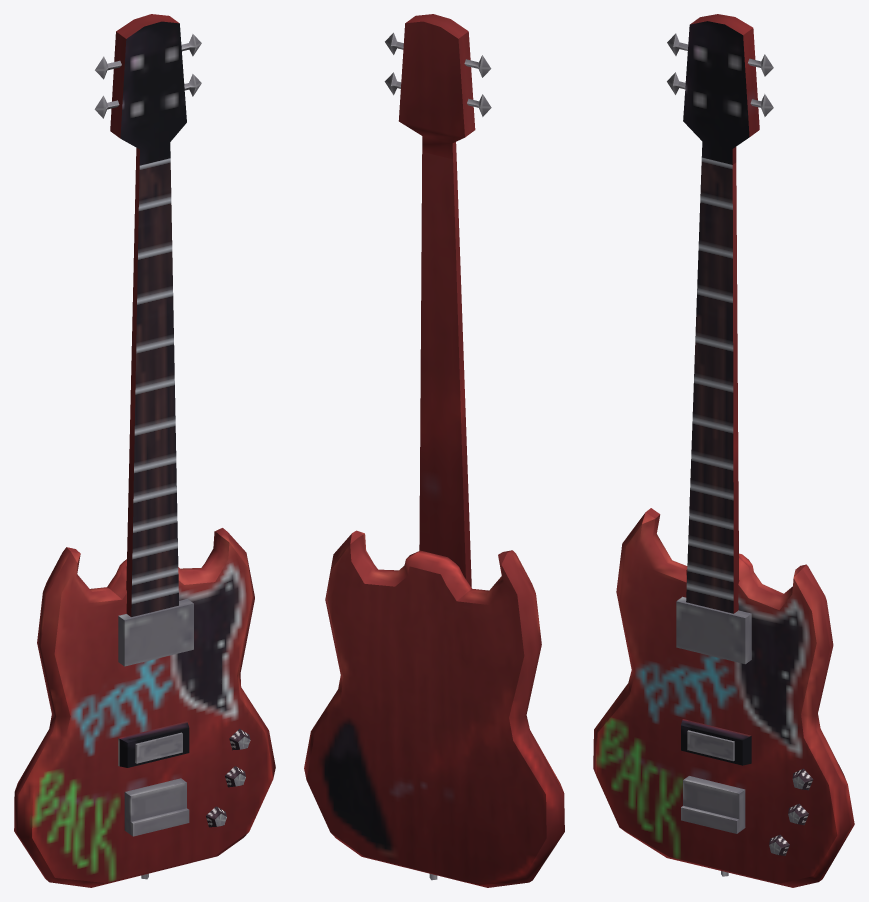
The model's file is Grunge_Bass_Guitar.glb.
The picture shows the model from 3 angles, left to right: view 1: azimuth 30°, elevation 25°; view 2: azimuth 150°, elevation 25°; view 3: azimuth 330°, elevation 25°; orthographic projection.
Parts seen in each view (by area): view 1: bass_guitar_bass_guitar_m_0; view 2: bass_guitar_bass_guitar_m_0; view 3: bass_guitar_bass_guitar_m_0.
Part boxes in pixels (box(x1,y1,x2,y2)): bass_guitar_bass_guitar_m_0: box(14, 14, 275, 887); bass_guitar_bass_guitar_m_0: box(304, 14, 564, 887); bass_guitar_bass_guitar_m_0: box(593, 14, 854, 887).
Size of the model in its own units: 0.0209 by 0.0665 by 0.00326.
Materials: 1 (1 with a texture image).
